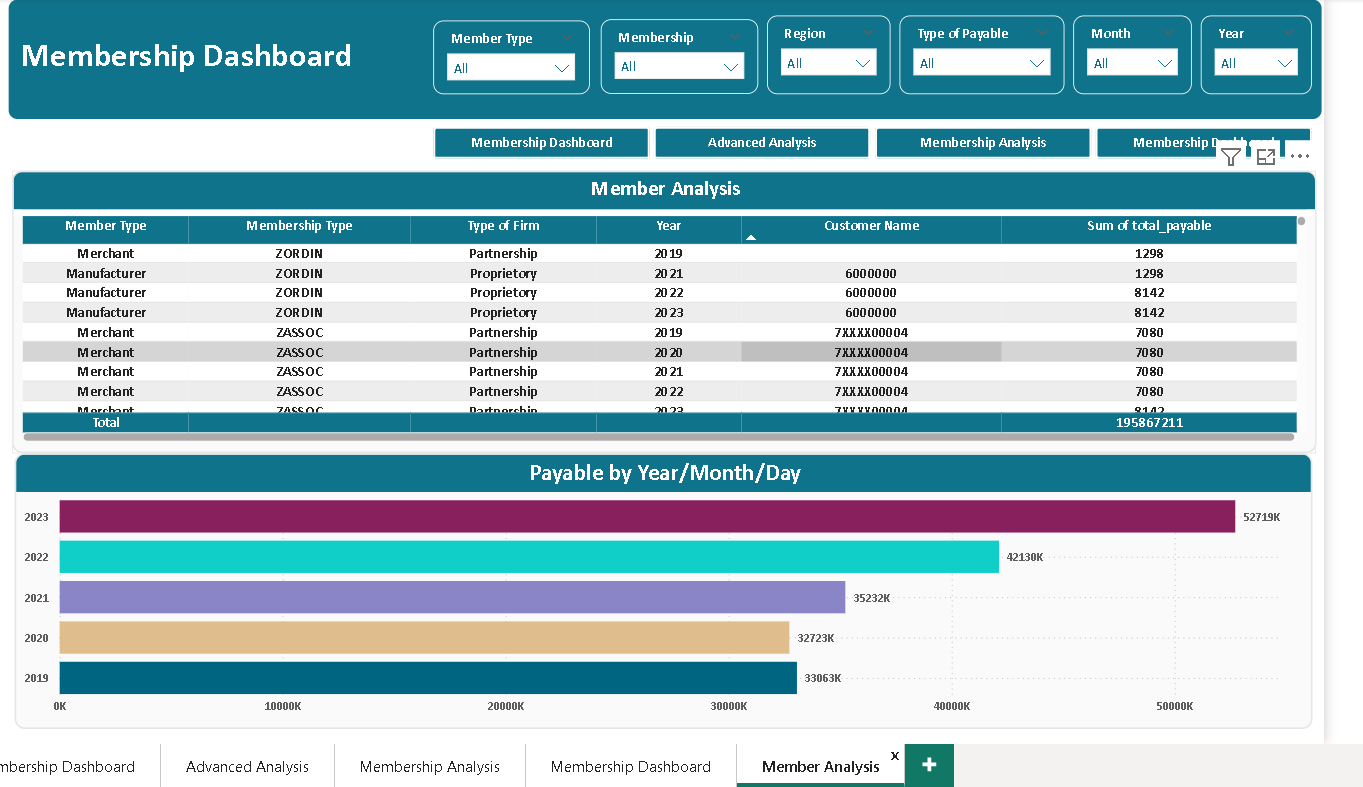

The page's visual inventory and layout, read from the dashboard file:
{"tool":"powerbi","page":{"name":"Member Analysis","canvas":[1280,720],"ordinal":4},"visuals":[{"type":"textbox","box":[9.7,0,1270.4,118.2],"z":0},{"type":"textbox","box":[18.1,30.2,354.7,54.3],"z":1000},{"type":"slicer","fields":{"Values":["Membership POC.post_date.Variation.Date Hierarchy.Month"]},"box":[1038.7,16.9,114.6,76],"z":2000},{"type":"slicer","fields":{"Values":["Membership POC.Type of Firm"]},"box":[871.1,16.9,159.3,76],"z":3000},{"type":"slicer","fields":{"Values":["Membership POC.Region"]},"box":[743.2,16.9,119.4,76],"z":4000},{"type":"slicer","fields":{"Values":["Membership POC.post_date.Variation.Date Hierarchy.Year"]},"box":[1161.8,16.9,107.4,76],"z":5000},{"type":"slicer","fields":{"Values":["Membership POC.Member Type"]},"box":[421,21.7,150.8,71.2],"z":6000},{"type":"slicer","fields":{"Values":["Membership POC.Membership Type"]},"box":[582.7,20.5,152,72.4],"z":7000},{"type":"pageNavigator","box":[421,124.3,848.1,31.4],"z":8000},{"type":"tableEx","title":"Member Analysis","fields":{"Values":["Membership POC.Member Type","Membership POC.Membership Type","Membership POC.Type of Firm","Membership POC.post_date.Variation.Date Hierarchy.Year","Membership POC.Customer Name","Sum(Membership POC.total_payable)"]},"box":[14.3,166.3,1259.1,272.4],"z":9000},{"type":"clusteredBarChart","title":"Payable by Year/Month/Day","fields":{"Category":["Membership POC.post_date.Variation.Date Hierarchy.Year","Membership POC.post_date.Variation.Date Hierarchy.Month","Membership POC.post_date.Variation.Date Hierarchy.Day"],"Y":["Sum(Membership POC.total_payable)"]},"box":[17.4,438.7,1252.8,266.1],"z":10000}]}

Visuals, with their boxes on the page's 1280x720 design canvas (x1, y1, x2, y2). These are canvas units, not pixel positions in the 1363x787 screenshot, which may show the page scaled, cropped or inside an application window:
textbox: box(10, 0, 1280, 118)
textbox: box(18, 30, 373, 84)
slicer - Membership POC.post_date.Variation.Date Hierarchy.Month: box(1039, 17, 1153, 93)
slicer - Membership POC.Type of Firm: box(871, 17, 1030, 93)
slicer - Membership POC.Region: box(743, 17, 863, 93)
slicer - Membership POC.post_date.Variation.Date Hierarchy.Year: box(1162, 17, 1269, 93)
slicer - Membership POC.Member Type: box(421, 22, 572, 93)
slicer - Membership POC.Membership Type: box(583, 20, 735, 93)
pageNavigator: box(421, 124, 1269, 156)
"Member Analysis" tableEx: box(14, 166, 1273, 439)
"Payable by Year/Month/Day" clusteredBarChart: box(17, 439, 1270, 705)
